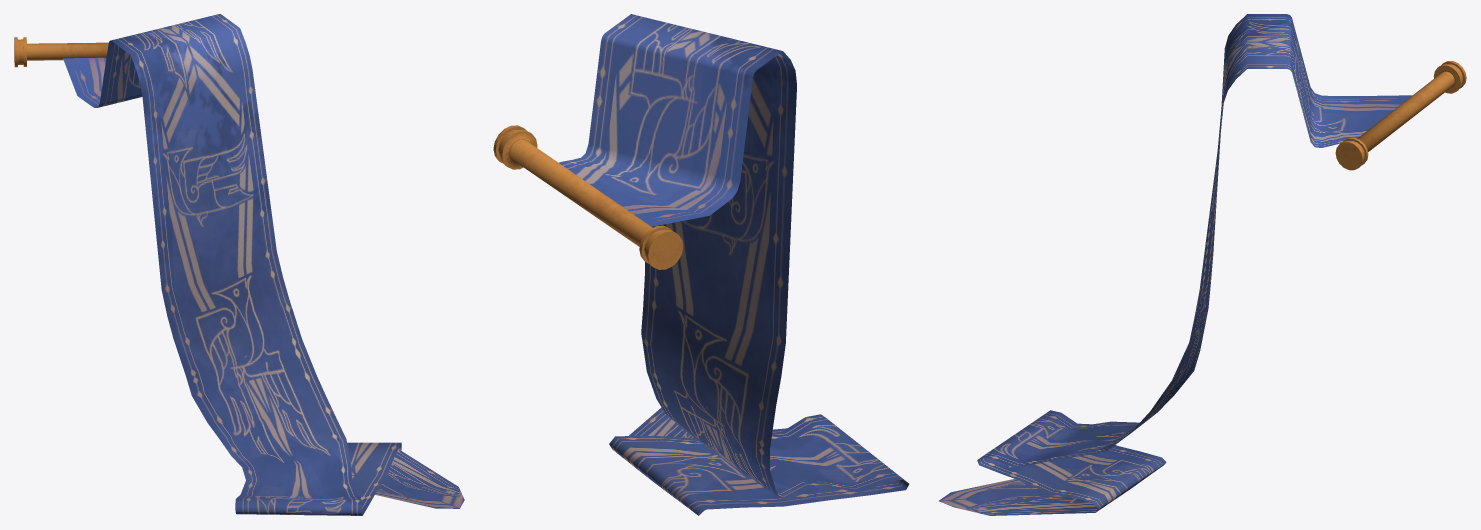
The model's file is SM_Flag_Fall.fbx.
The picture shows the model from 3 angles, left to right: view 1: azimuth 30°, elevation 25°; view 2: azimuth 150°, elevation 25°; view 3: azimuth 270°, elevation 25°; orthographic projection. The views are drawn at different scales.
Visible parts, largest first — view 1: SM_Flag_Fall; view 2: SM_Flag_Fall; view 3: SM_Flag_Fall.
Part boxes in pixels (x1=…): SM_Flag_Fall: x1=14, y1=14, x2=464, y2=515; SM_Flag_Fall: x1=493, y1=14, x2=909, y2=515; SM_Flag_Fall: x1=939, y1=14, x2=1466, y2=515.
Size of the model in its own units: 3.02 by 5 by 5.98.
